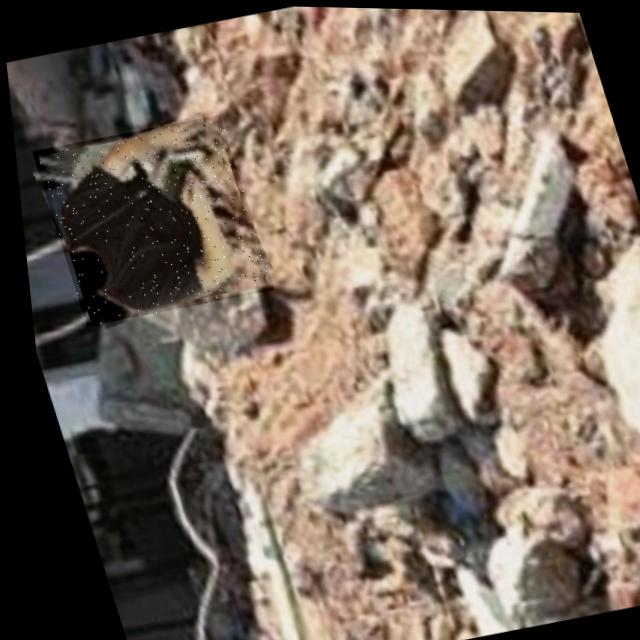Person in Rubble: (25, 109, 271, 328)
